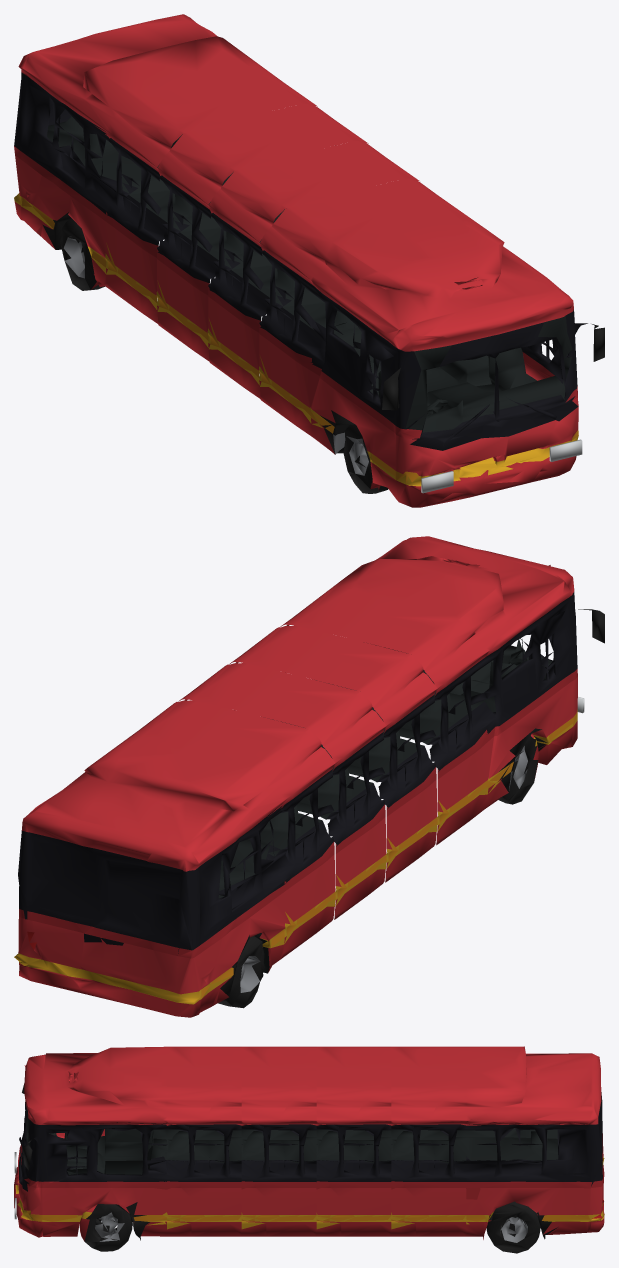
File: mtc_electric_ac.glb
The picture shows the model from 3 angles, top to bottom: view 1: azimuth 30°, elevation 25°; view 2: azimuth 150°, elevation 25°; view 3: azimuth 270°, elevation 25°; orthographic projection. The views are drawn at different scales.
Parts seen in each view (by area): view 1: geometry_0; view 2: geometry_0; view 3: geometry_0.
Part boxes in pixels (left/top/right/bottom): geometry_0: left=14, top=14, right=604, bottom=507; geometry_0: left=14, top=536, right=604, bottom=1017; geometry_0: left=14, top=1046, right=604, bottom=1253.
Size of the model in its own units: 3.22 by 2.95 by 10.11.
